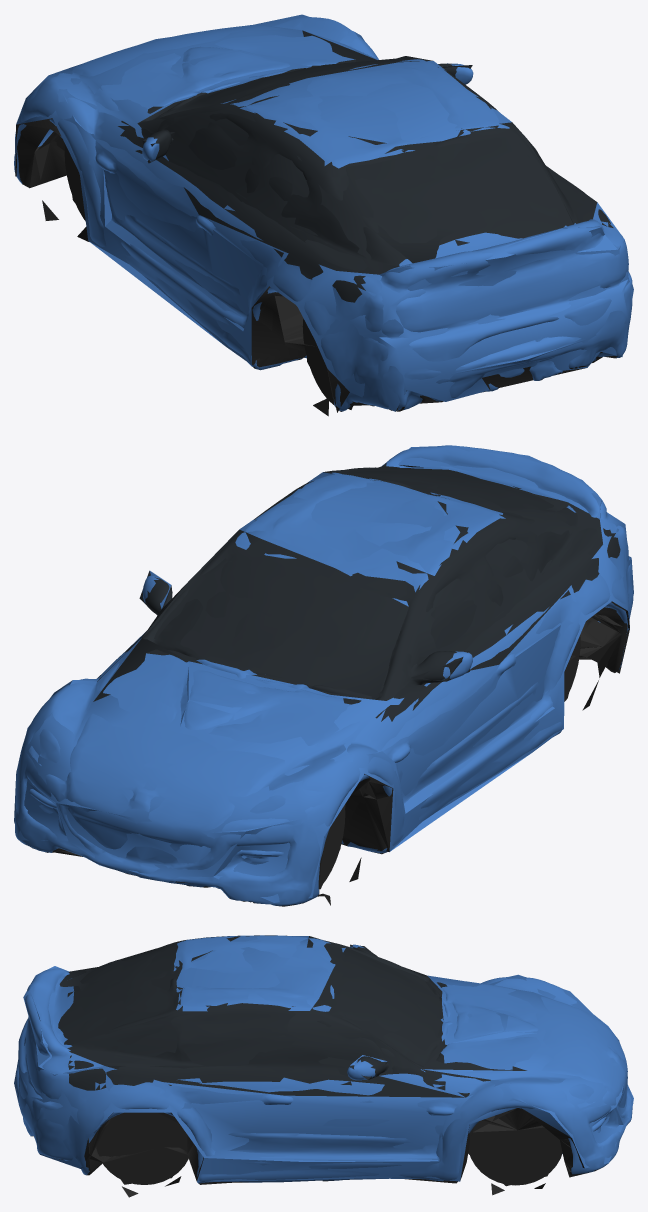
The model's file is mazda-rx-8.glb.
3 views of the same model, one above another, from view 1: azimuth 30°, elevation 25°; view 2: azimuth 150°, elevation 25°; view 3: azimuth 270°, elevation 25° (orthographic). The views are drawn at different scales.
Parts seen in each view (by area): view 1: body, far; view 2: body, far; view 3: body, far.
Part boxes in pixels (x1,y1,x2,y2): body: [14, 17, 632, 411]; far: [15, 14, 633, 416]; body: [14, 445, 633, 906]; far: [14, 445, 633, 905]; body: [15, 935, 633, 1197]; far: [14, 936, 633, 1192].
Bounding box in the file's own units: 2.14 × 1.43 × 4.5.
